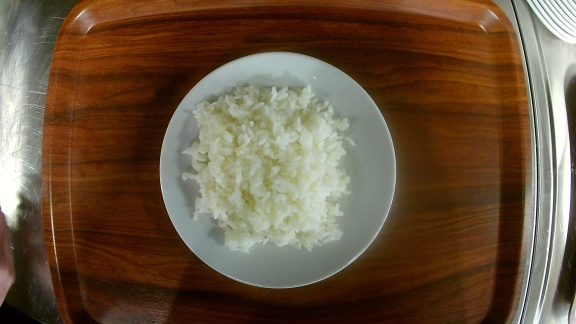pilav: (159, 51, 397, 287)
